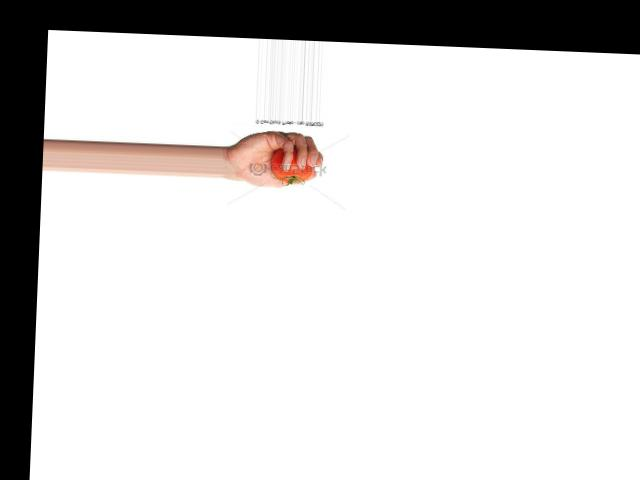tomato: (272, 145, 315, 183)
